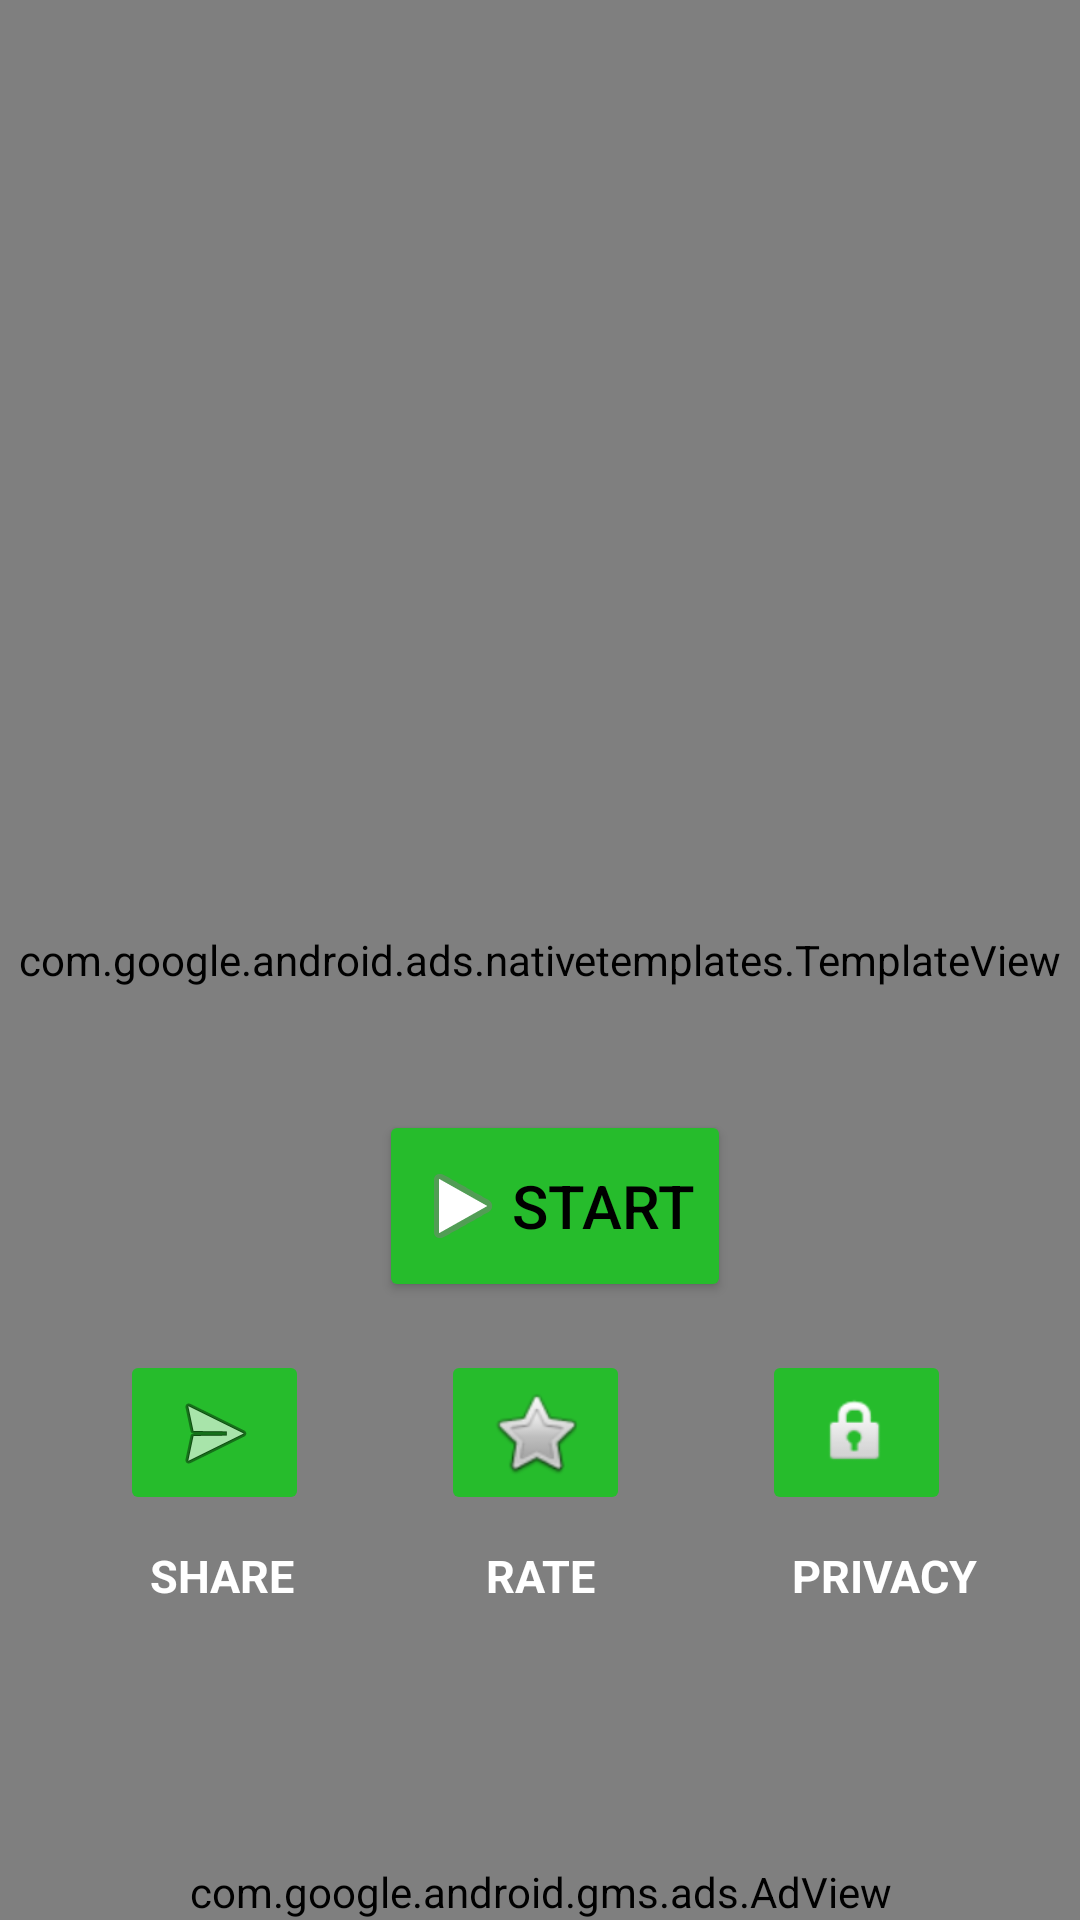

Locate icon controls on the screen. Image size 1080px×1920px, boxes as [x1=x1, y1=y1, x2=x2, y2=y2].
lock idle: [x1=774, y1=1368, x2=939, y2=1497]
send: [x1=132, y1=1368, x2=297, y2=1497]
